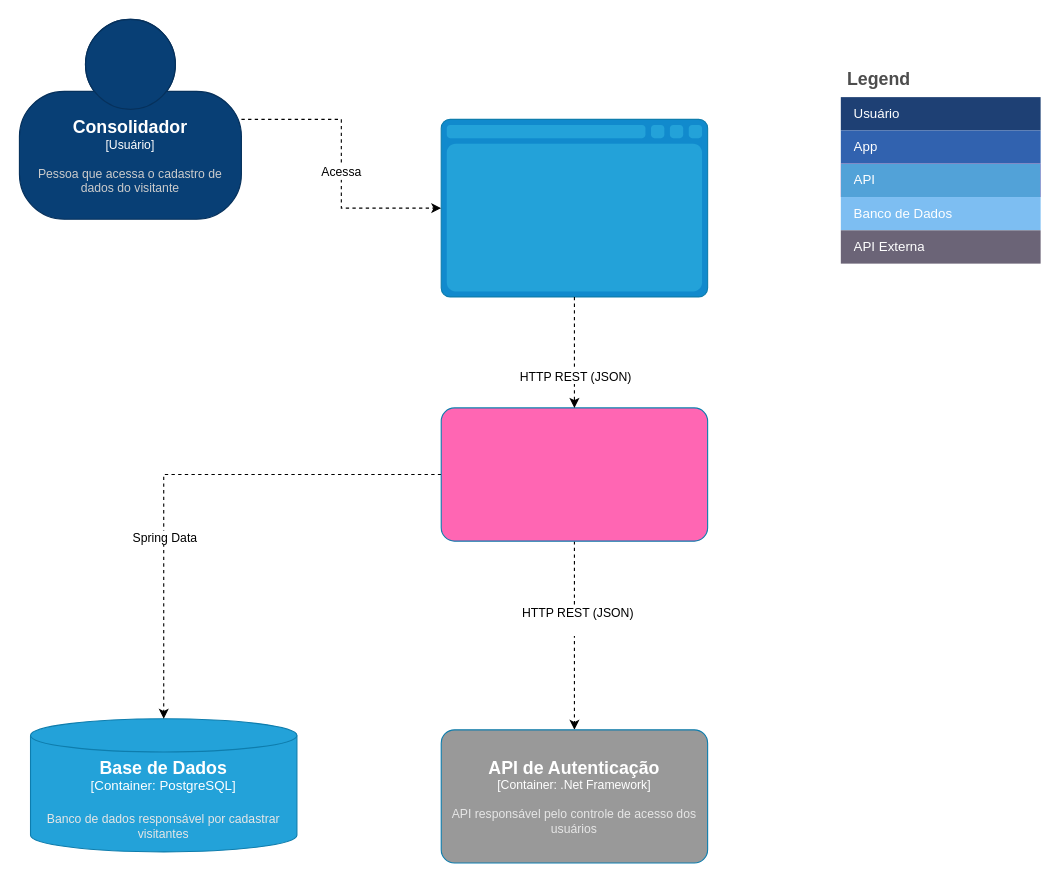
Image size: 1060x882. Some labels were removed from this diagram. The centre of each missing label's shape, as x and y in pixels:
"API de consolidação [API: .Net Framework] API de Interface de Backend" belongs at (574,474).
"App [Container: Vue.js, JavaScript] Aplicativo responsável pelo cadastro" belongs at (574,207).
